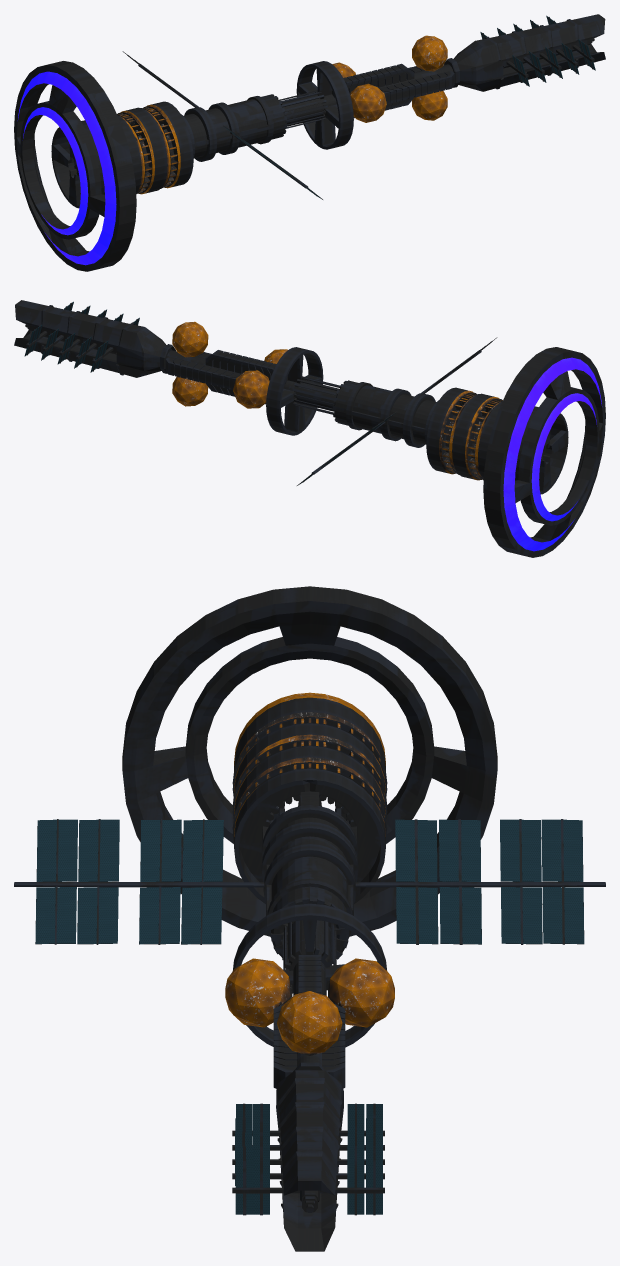
The model's file is exodus-nave.glb.
The picture shows the model from 3 angles, top to bottom: view 1: azimuth 30°, elevation 25°; view 2: azimuth 150°, elevation 25°; view 3: azimuth 270°, elevation 25°; orthographic projection. The views are drawn at different scales.
Parts seen in each view (by area): view 1: Exodus; view 2: Exodus; view 3: Exodus.
Part boxes in pixels (box(x1,y1,x2,y2)): Exodus: box(14, 14, 605, 271); Exodus: box(14, 300, 605, 557); Exodus: box(14, 586, 605, 1251).
Bounding box in the file's own units: 2.27 × 0.7572 × 1.19.
9 materials, 9 textured.
